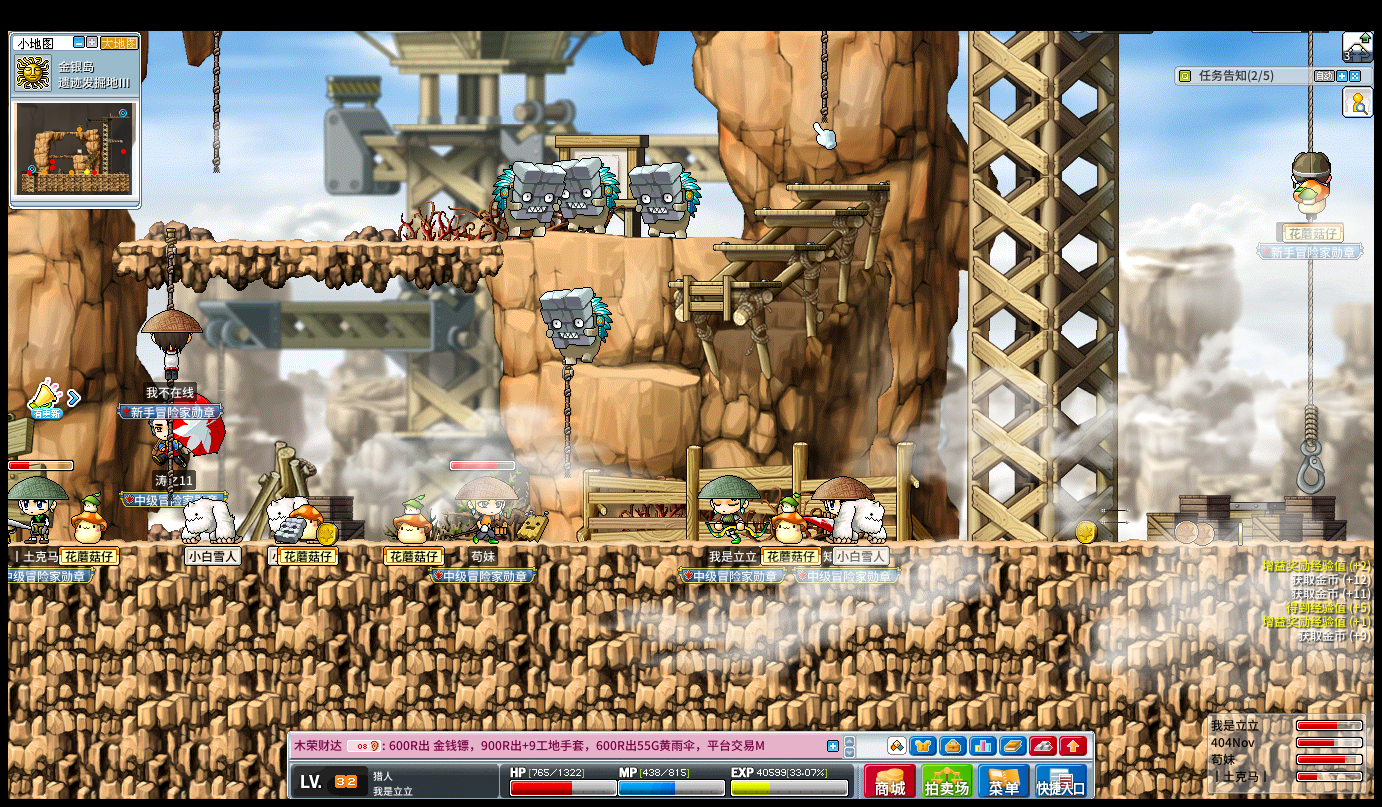floor: (7, 540, 1373, 553), (120, 237, 501, 249), (597, 363, 701, 386), (586, 234, 748, 245), (666, 279, 781, 288), (753, 207, 869, 215), (712, 243, 830, 250), (787, 184, 889, 192)
monster: (538, 286, 612, 365), (628, 161, 702, 239), (491, 161, 561, 238), (558, 156, 618, 234)
rope: (561, 358, 573, 481), (1304, 259, 1314, 405), (211, 28, 220, 174), (1304, 27, 1312, 150), (819, 30, 828, 123), (164, 231, 175, 307), (1304, 404, 1319, 446)
